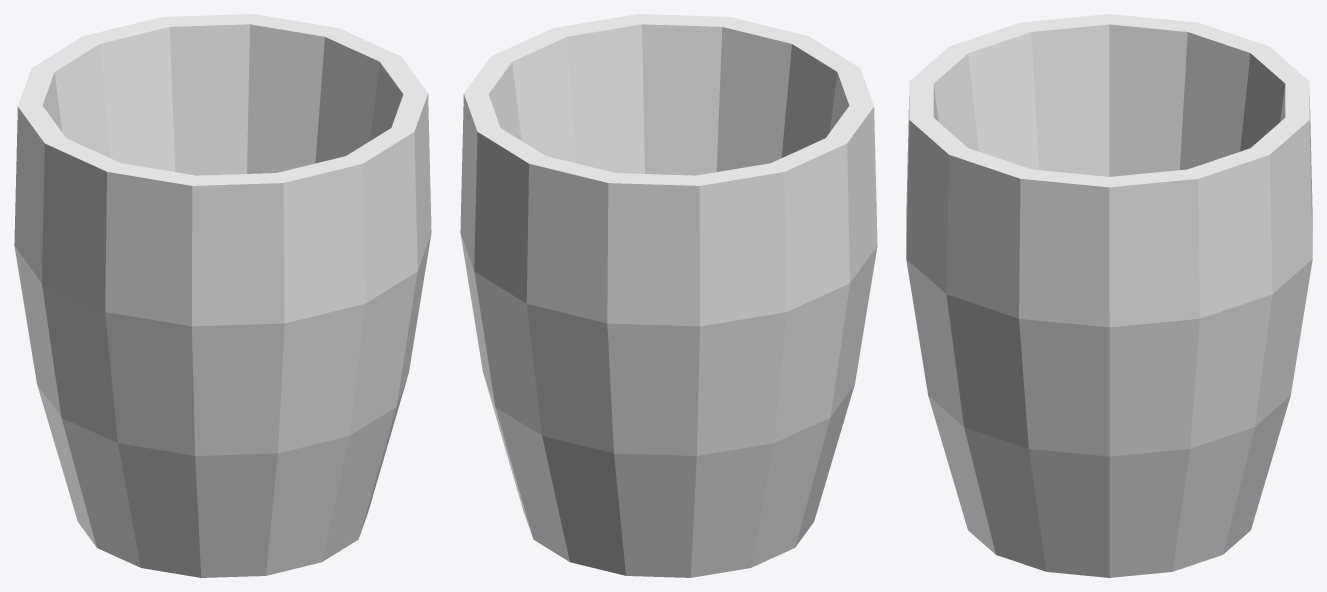
File: Cup_5.fbx
3 renders of one model, left to right at view 1: azimuth 30°, elevation 25°; view 2: azimuth 150°, elevation 25°; view 3: azimuth 270°, elevation 25°, orthographic.
Parts seen in each view (by area): view 1: Cup_5; view 2: Cup_5; view 3: Cup_5.
Boxes of the visible parts, x1,y1,x2,y2 form: Cup_5: [14, 14, 431, 577]; Cup_5: [460, 14, 877, 577]; Cup_5: [906, 14, 1312, 577].
Bounding box in the file's own units: 0.0582 × 0.064 × 0.0567.
